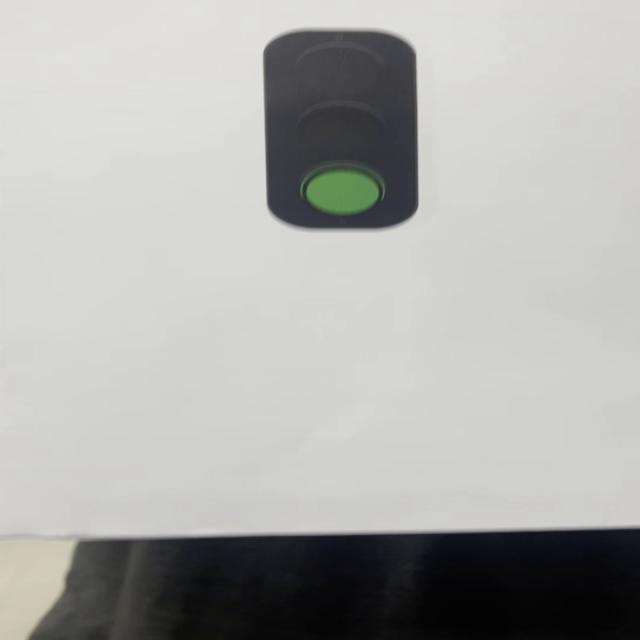green: (265, 31, 419, 229)
